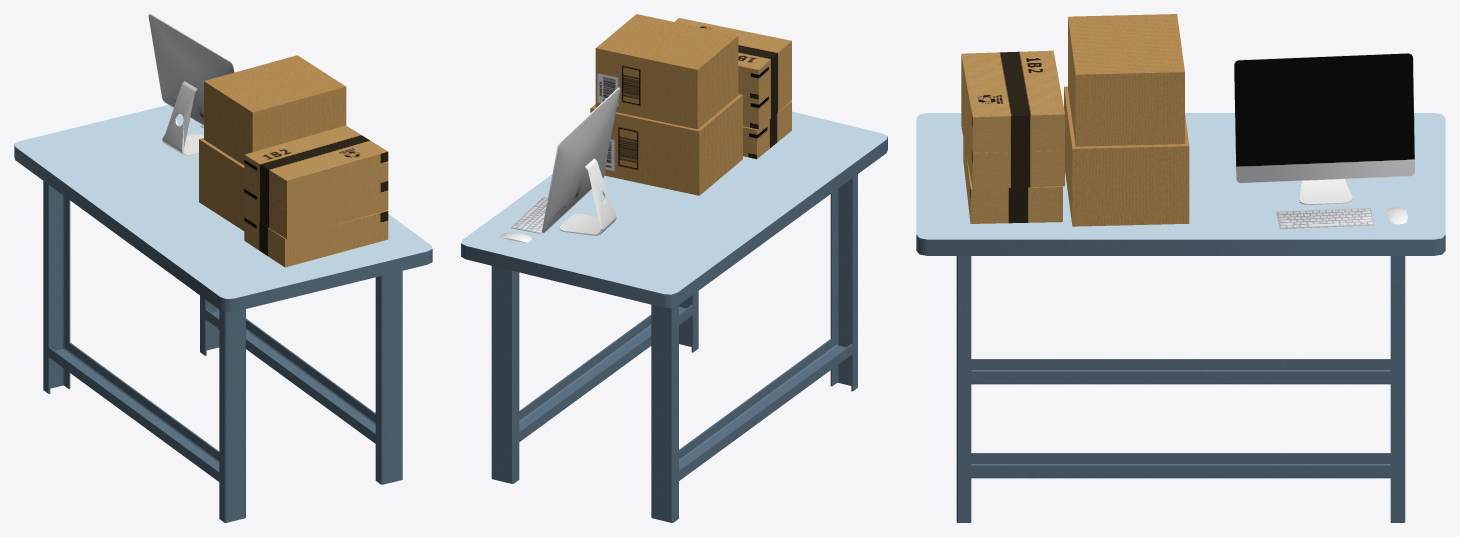
Rendered from DeskC_01.glb.
3 renders of one model, left to right at view 1: azimuth 30°, elevation 25°; view 2: azimuth 150°, elevation 25°; view 3: azimuth 270°, elevation 25°, orthographic. The views are drawn at different scales.
Visible parts, largest first — view 1: aws_robomaker_warehouse_DeskC_01_visual; view 2: aws_robomaker_warehouse_DeskC_01_visual; view 3: aws_robomaker_warehouse_DeskC_01_visual.
Boxes of the visible parts, x1,y1,x2,y2 form: aws_robomaker_warehouse_DeskC_01_visual: [14, 14, 432, 522]; aws_robomaker_warehouse_DeskC_01_visual: [461, 14, 887, 522]; aws_robomaker_warehouse_DeskC_01_visual: [916, 14, 1445, 522].
Size of the model in its own units: 0.8819 by 1.44 by 1.56.
4 materials, 4 textured.
